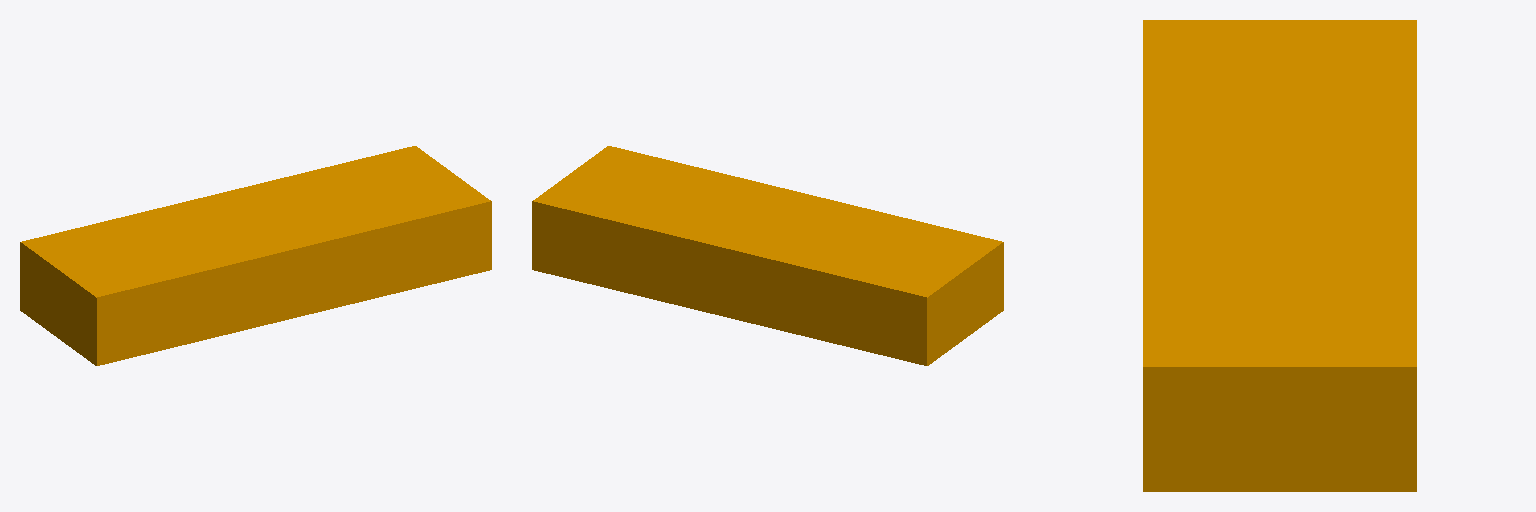
URDF robot description (Satellite):
<?xml version="1.0"?>
<robot name="Satellite">
  <link name="baselink">
    <visual>
      <geometry>
        <box size="0.3 .10 0.05"/>
        <!--mesh filename="package://gcop_urdf/meshes/pelican1.dae" scale="0.025 0.025 0.025"/-->
      </geometry>
    </visual>
	</link>
</robot>

--- Facts derived from the render (not from the file) ---
The picture shows the robot from 3 angles, left to right: view 1: azimuth 30°, elevation 25°; view 2: azimuth 150°, elevation 25°; view 3: azimuth 270°, elevation 25°; orthographic projection.
Robot: Satellite — 1 links, 0 joints (none); root link baselink; default pose: every joint at zero.
Visible links, largest first — view 1: baselink; view 2: baselink; view 3: baselink.
Boxes of the visible links, x1,y1,x2,y2 form: baselink: (20,146,491,365); baselink: (532,146,1003,365); baselink: (1143,20,1416,491).
Bounding box of the posed robot: 0.3 × 0.1 × 0.05 m (x, y, z).
Geometry: primitives only (box / cylinder / sphere), no mesh files.